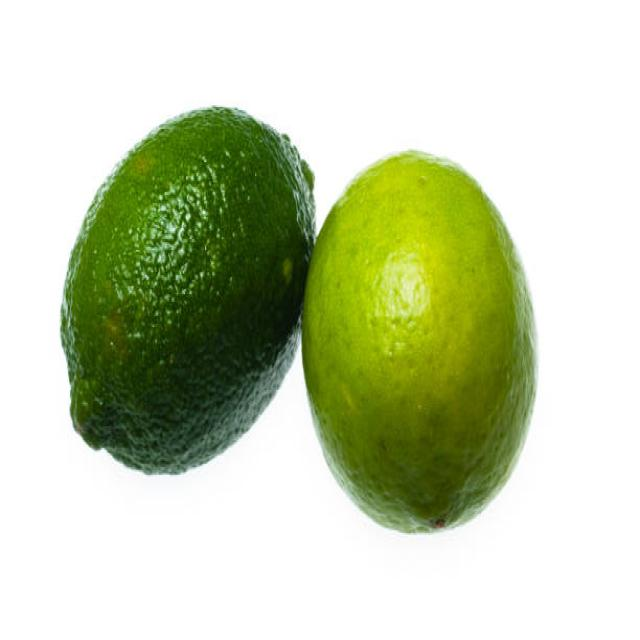Unripe: (60, 101, 314, 478), (303, 147, 539, 535)
